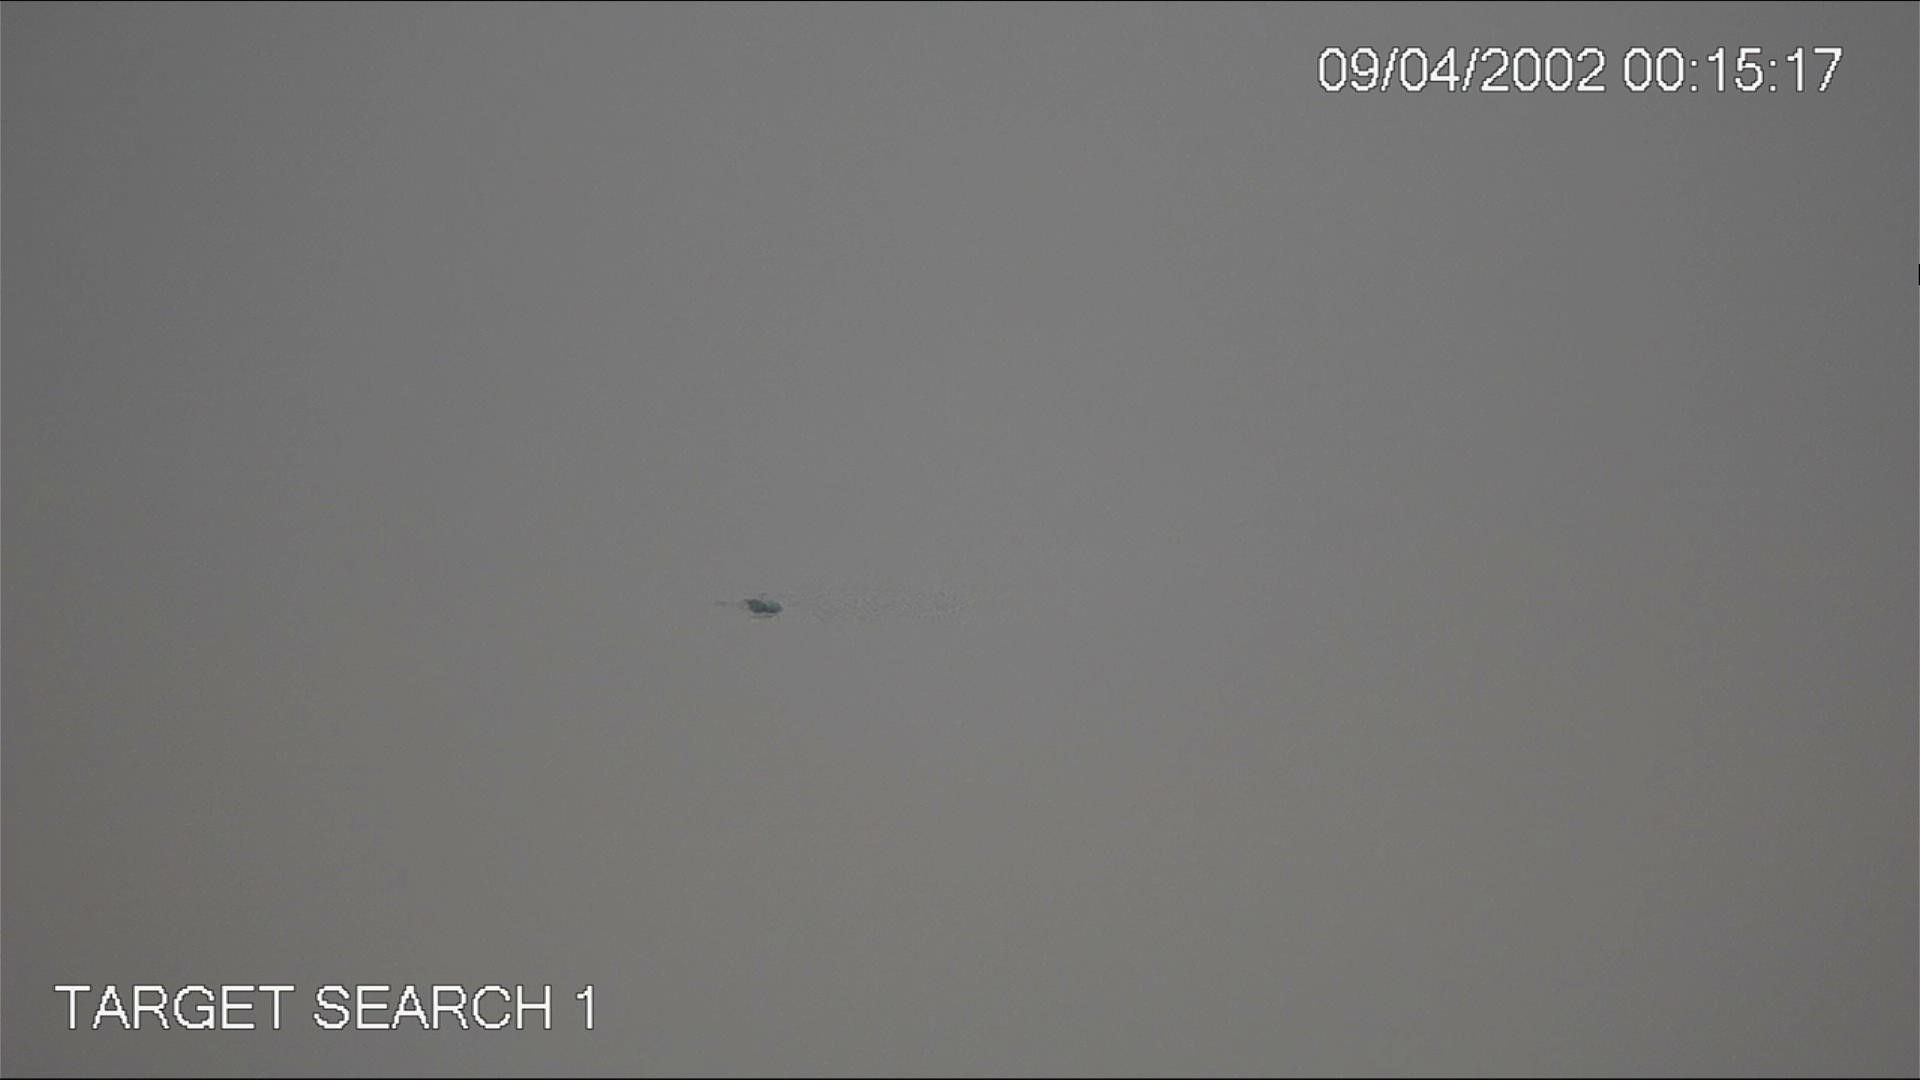SU_30: (707, 589, 796, 628)
